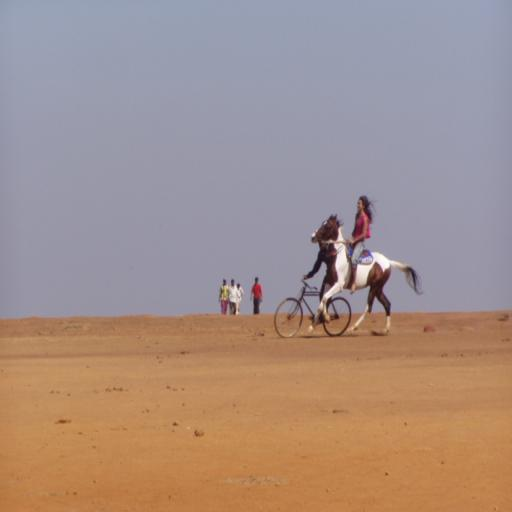horse: (310, 211, 424, 336)
